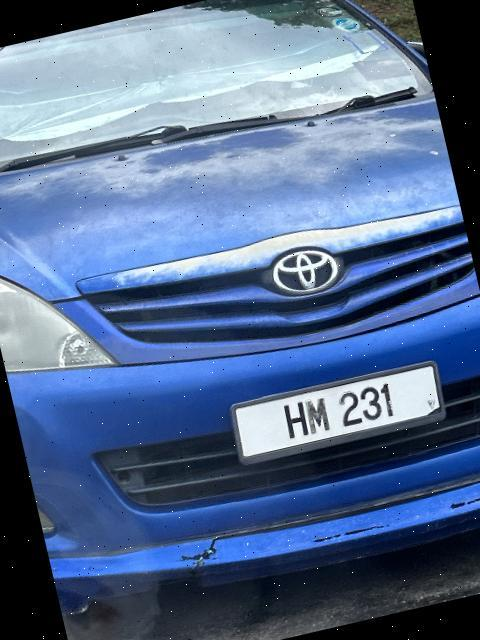HM231: (225, 356, 452, 470)
License_Plate: (225, 356, 452, 470)
car: (1, 1, 480, 633)
